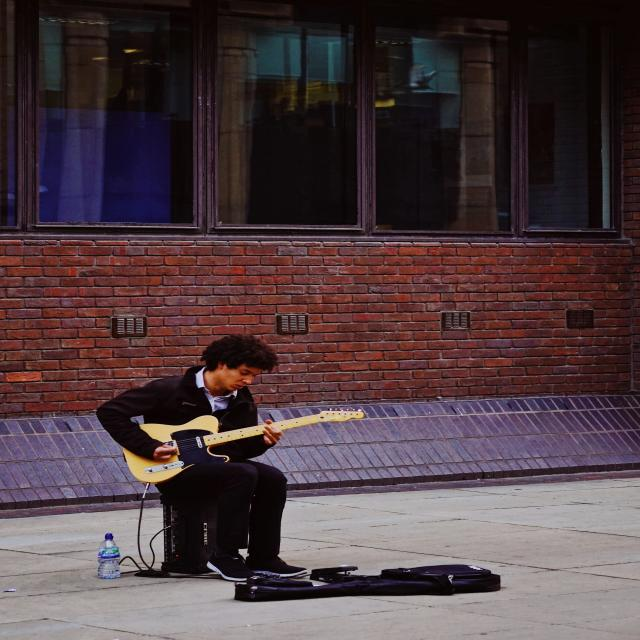adult: (92, 331, 304, 583)
